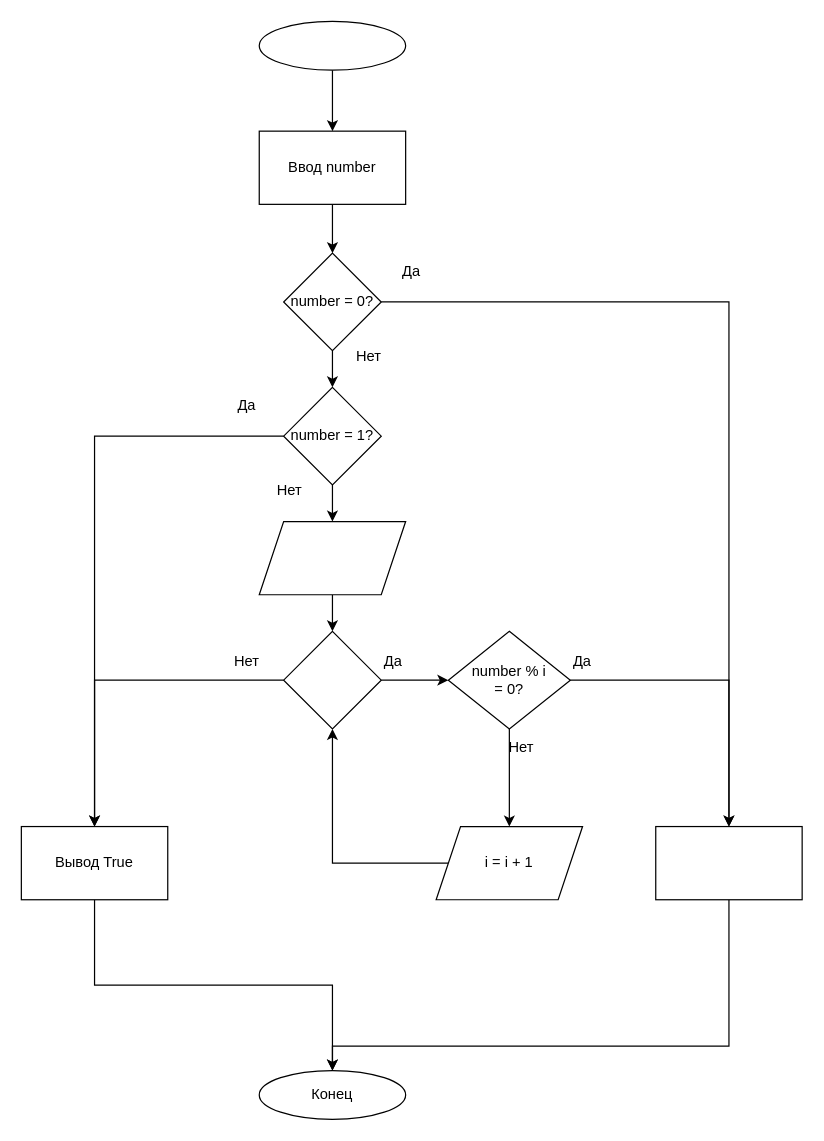
Some shapes in this 824 by 1141 pixel diagram are drawn without their labels. Each missing label, with the centre of its shape:
i < number?: pixel 331 679
i = 2: pixel 332 557
Вывод False: pixel 728 862
Начало: pixel 332 45
